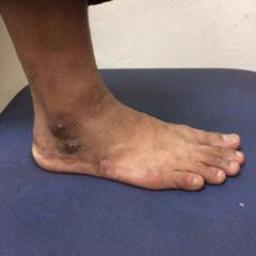Lateral View -Right Foot-: (18, 68, 249, 205)
